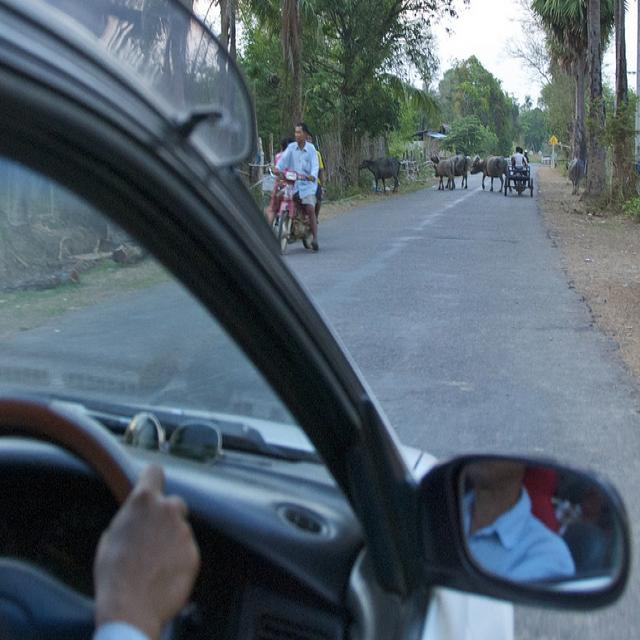motor: (273, 167, 315, 253)
